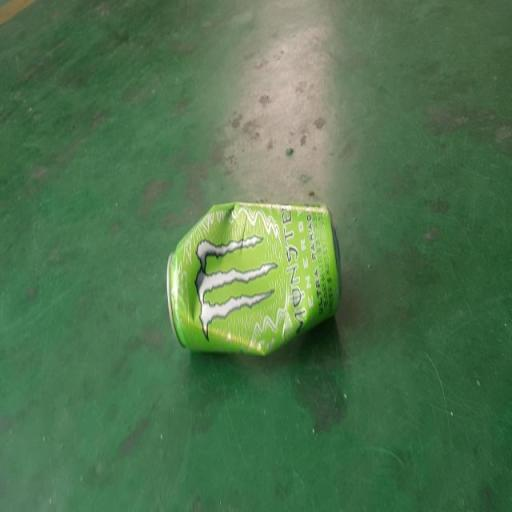metal: (140, 185, 380, 380)
